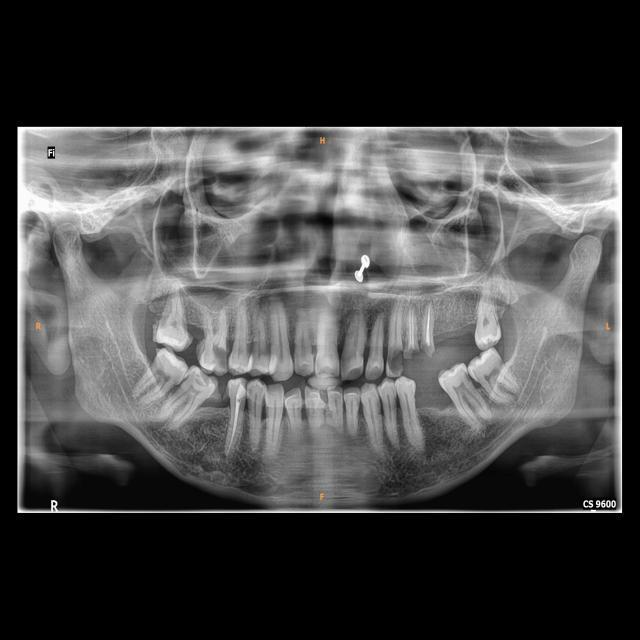dentin-curugu: (208, 344, 229, 372), (388, 345, 405, 378)
kanal-tedavisi: (228, 399, 243, 450), (406, 304, 417, 347), (425, 305, 434, 343)
kirik: (403, 341, 422, 363), (422, 340, 437, 359)
